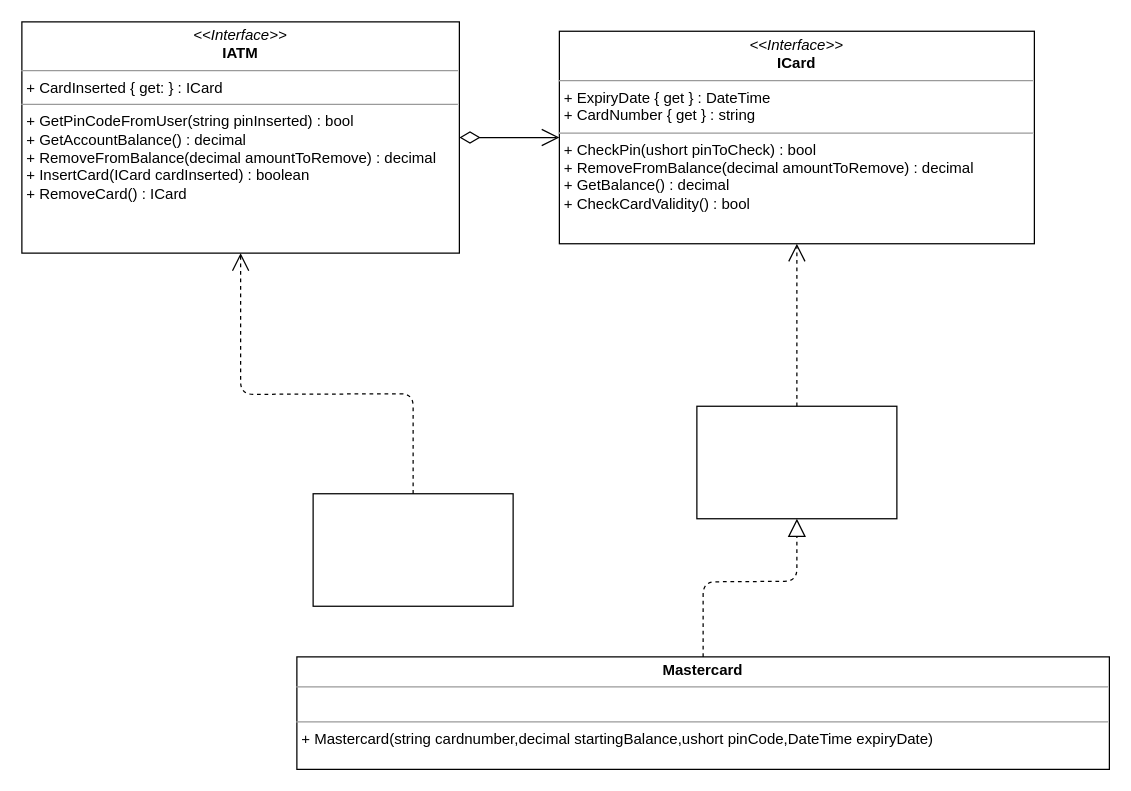
This 1131x791 diagram has some shape labels left out. The centre of each missing label's shape, as x and y in pixels:
"ATM" belongs at point (412, 549).
"Card" belongs at point (796, 462).
